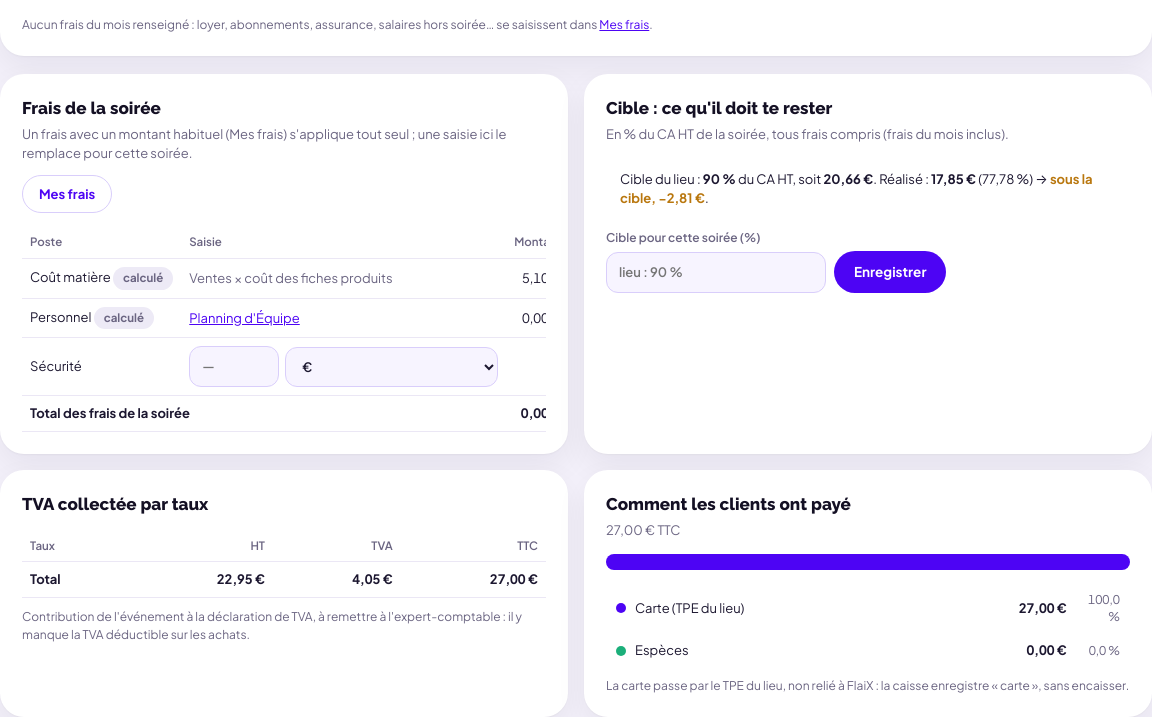
Test: gestion financière de la soirée à l'écran › une dépense de 10 % du CA HT part au serveur en points de base, et la marge nette se recalcule
(page scrolled)
Select "% du CA HT" in the dropdown named "Unité Sécurité" at (392, 367), box x1=285 y1=347 x2=498 y2=387
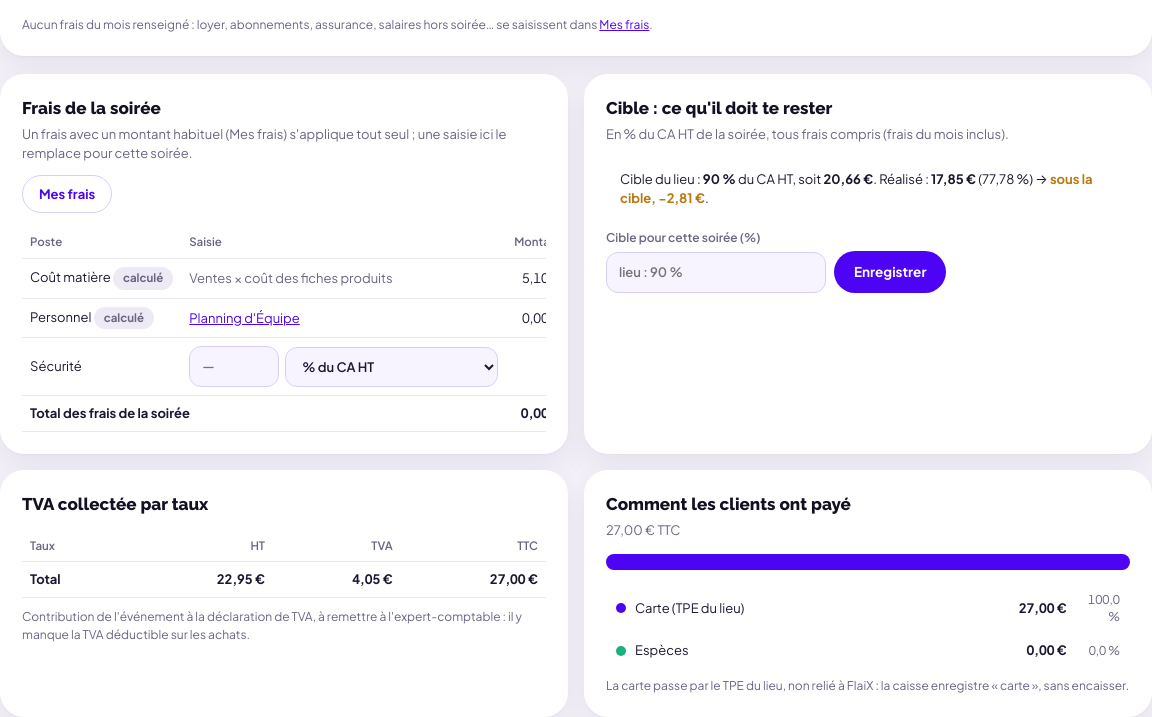
Type "10" into the field named "Montant Sécurité".
click(234, 367); type("10")  # box x1=189 y1=346 x2=279 y2=387
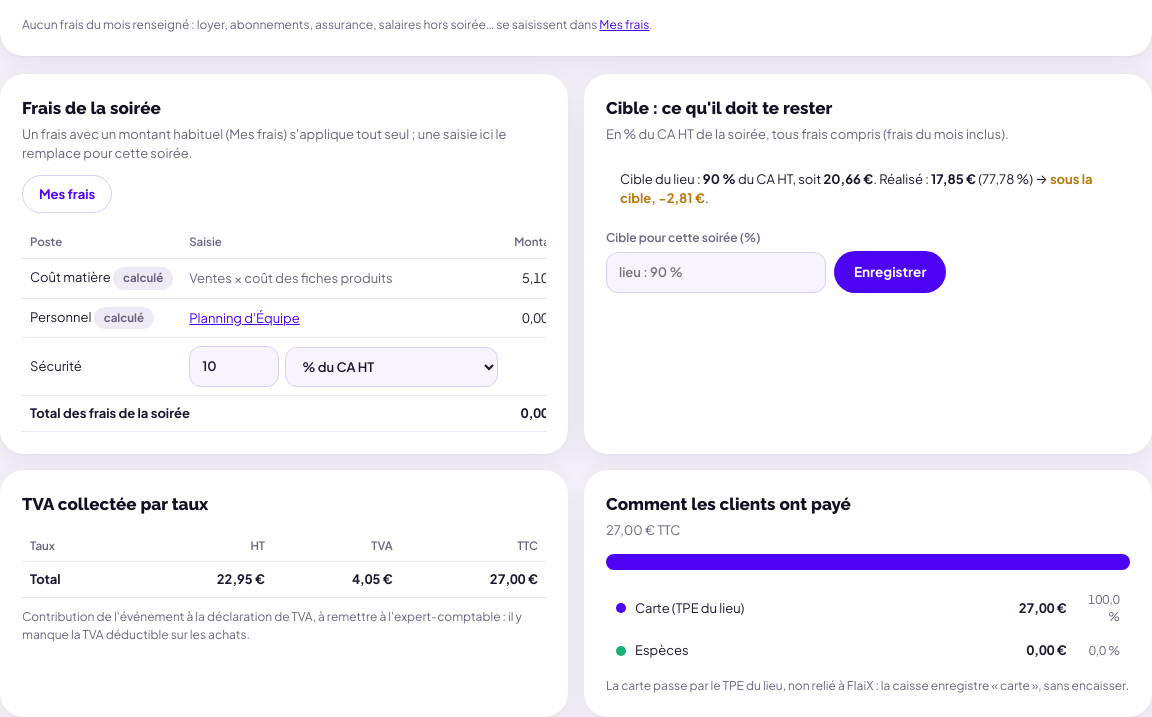
Leave the field named "Montant Sécurité", box x1=189 y1=346 x2=279 y2=387
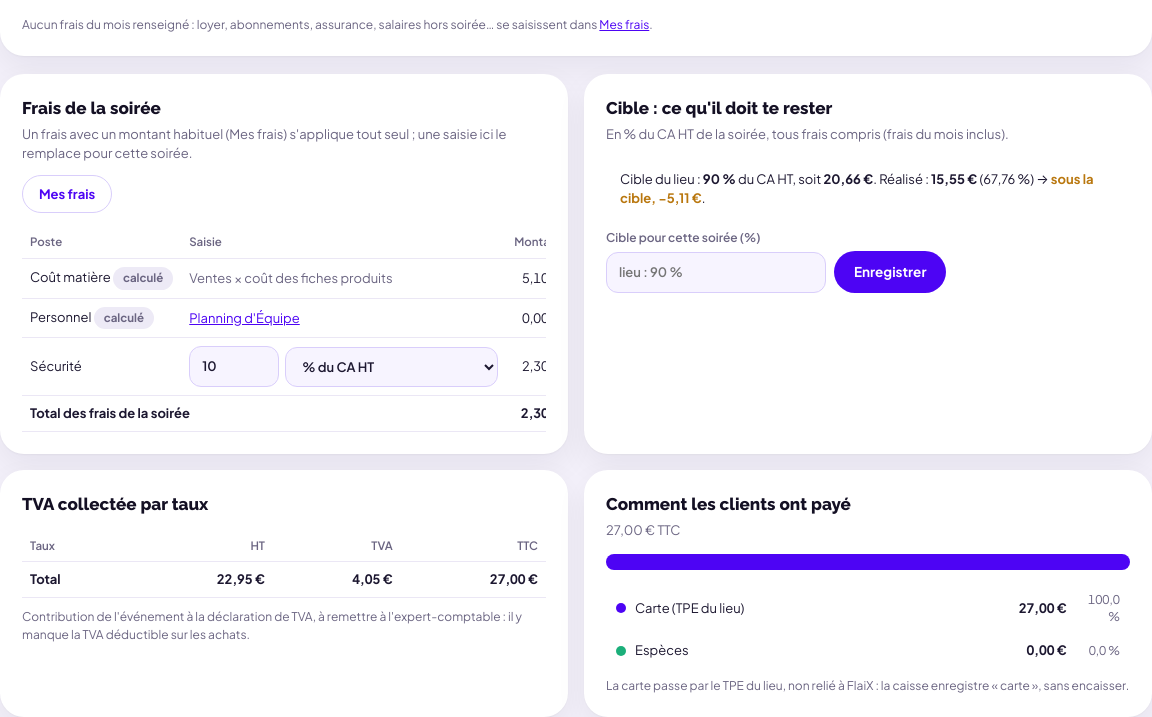
Result: the text "2,30 €" in the row of "Sécurité" is shown at x1=522 y1=358 x2=546 y2=374
